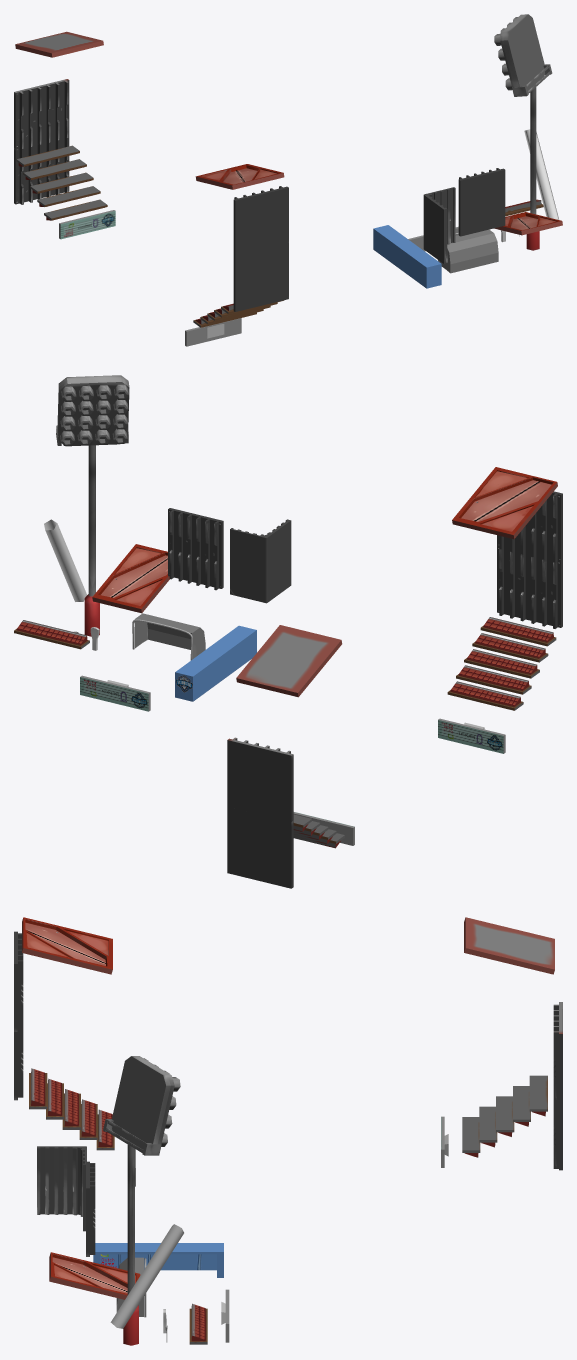
File: Final Assets.FBX
3 renders of one model, top to bottom at view 1: azimuth 30°, elevation 25°; view 2: azimuth 150°, elevation 25°; view 3: azimuth 270°, elevation 25°, orthographic. The views are drawn at different scales.
Visible parts, largest first — view 1: Lighting, Plain_Wall002, Plain_Wall004, Plain_Wall001, Plain_Wall, Coachseating, Sidepiece, Plain_Wall003, Goal, RoofWall003, RoofWall002, Add002 (+8 smaller); view 2: Lighting, Plain_Wall004, Plain_Wall003, RoofWall002, RoofWall003, Plain_Wall001, Sidepiece, Plain_Wall, RoofWall, Coachseating, Plain_Wall002, Goal (+9 smaller); view 3: Lighting, Sidepiece, RoofWall003, RoofWall002, Coachseating, RoofWall, Beams, Plain_Wall004, Plain_Wall002, Plain_Wall, Seating006, Seating011 (+11 smaller).
Boxes of the visible parts, <box> form: Lighting: <box>494,14,552,250</box>; Plain_Wall002: <box>233,186,288,256</box>; Plain_Wall004: <box>14,79,69,148</box>; Plain_Wall001: <box>233,243,288,311</box>; Plain_Wall: <box>458,168,505,236</box>; Coachseating: <box>373,225,441,288</box>; Sidepiece: <box>423,187,455,263</box>; Plain_Wall003: <box>14,136,69,204</box>; Goal: <box>438,229,498,273</box>; RoofWall003: <box>15,31,103,57</box>; RoofWall002: <box>195,164,284,189</box>; Add002: <box>59,210,115,239</box>; Lighting: <box>56,375,129,636</box>; Plain_Wall004: <box>227,737,293,822</box>; Plain_Wall003: <box>227,806,293,888</box>; RoofWall002: <box>452,467,557,539</box>; RoofWall003: <box>236,625,342,697</box>; Plain_Wall001: <box>497,545,562,628</box>; Sidepiece: <box>230,519,291,603</box>; Plain_Wall: <box>168,508,223,590</box>; RoofWall: <box>92,544,169,613</box>; Coachseating: <box>175,625,256,701</box>; Plain_Wall002: <box>497,491,562,562</box>; Goal: <box>132,613,205,660</box>; Lighting: <box>103,1056,180,1345</box>; Sidepiece: <box>37,1146,86,1231</box>; RoofWall003: <box>464,917,554,974</box>; RoofWall002: <box>22,917,112,974</box>; Coachseating: <box>93,1243,223,1277</box>; RoofWall: <box>49,1252,140,1299</box>; Beams: <box>110,1224,183,1328</box>; Plain_Wall004: <box>553,1002,562,1102</box>; Plain_Wall002: <box>14,931,23,1031</box>; Plain_Wall: <box>86,1161,95,1256</box>; Seating006: <box>29,1068,47,1109</box>; Seating011: <box>529,1075,547,1116</box>.
Size of the model in its own units: 2317 by 1377 by 2362.
